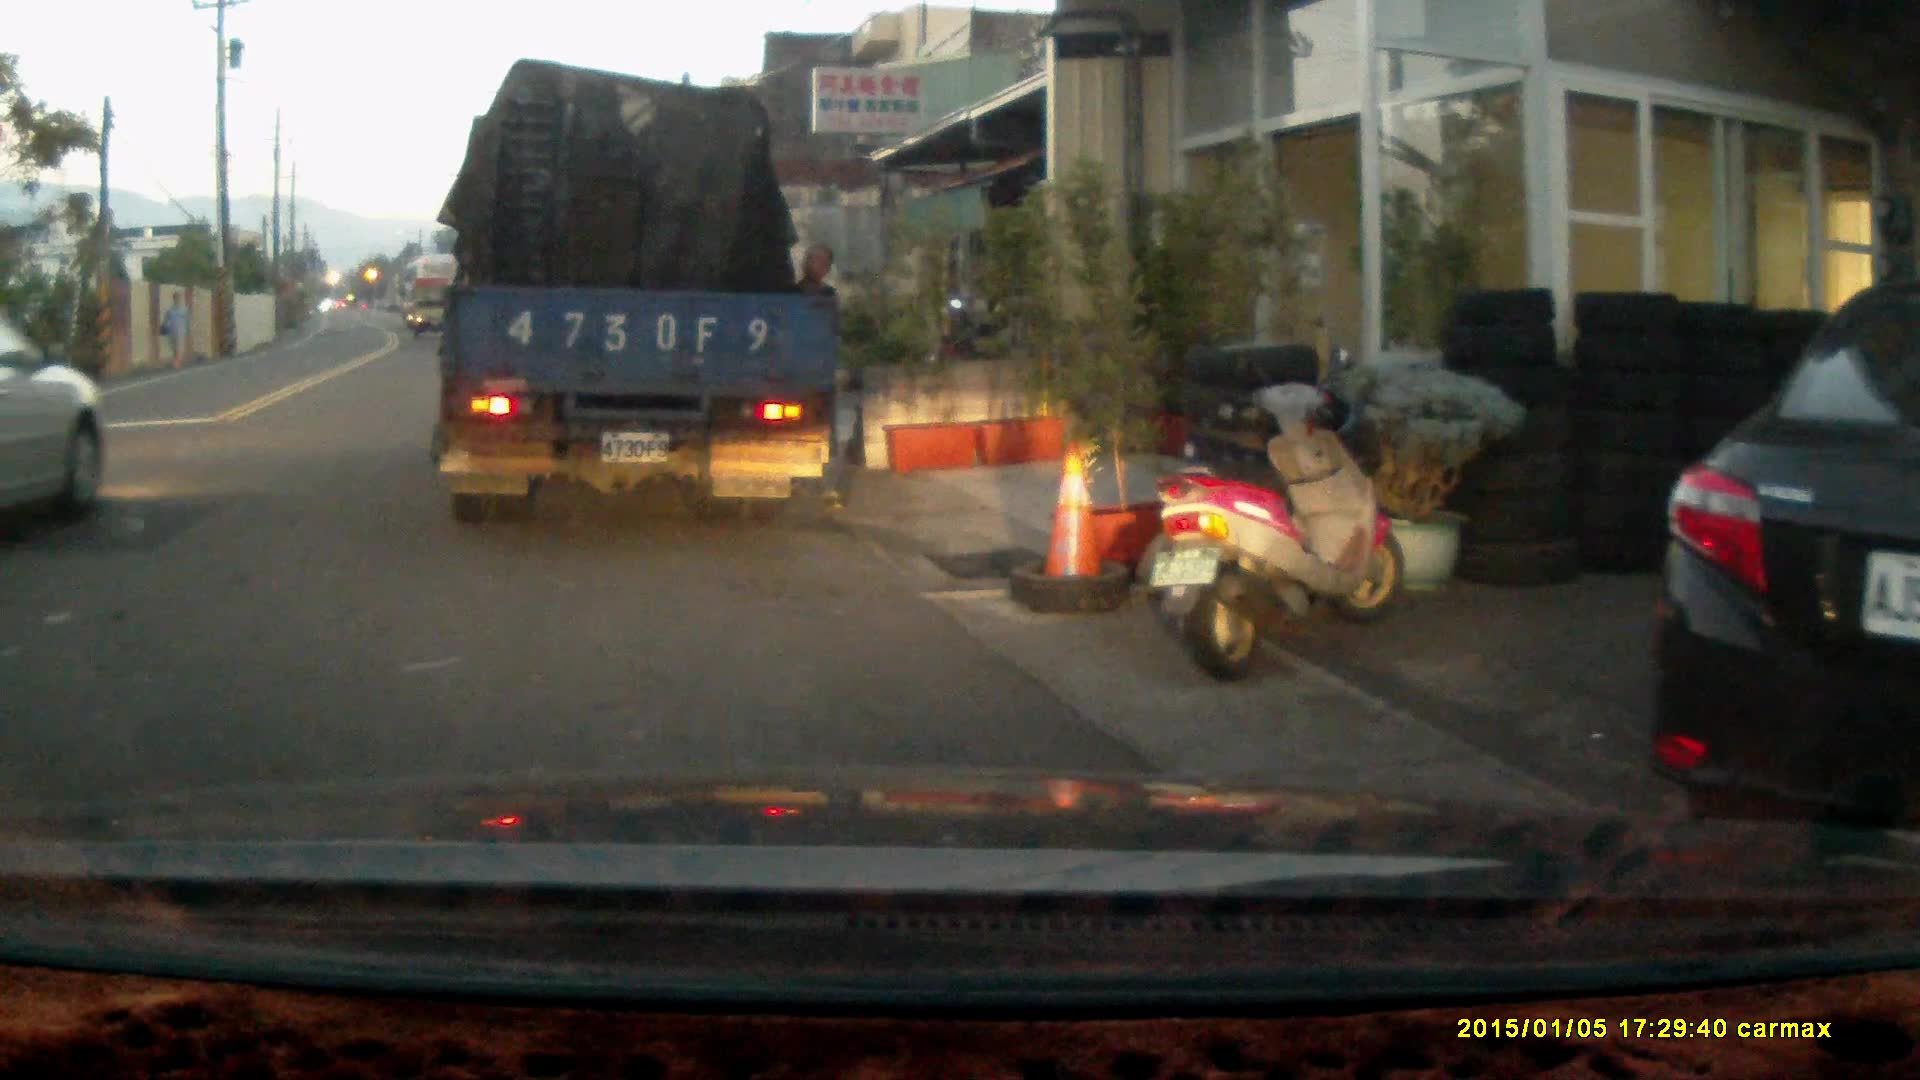pedestrian: (160, 288, 194, 363)
vehicle: (432, 70, 848, 513), (1641, 274, 1920, 865), (1, 314, 108, 529), (402, 252, 465, 328), (410, 281, 461, 337)
